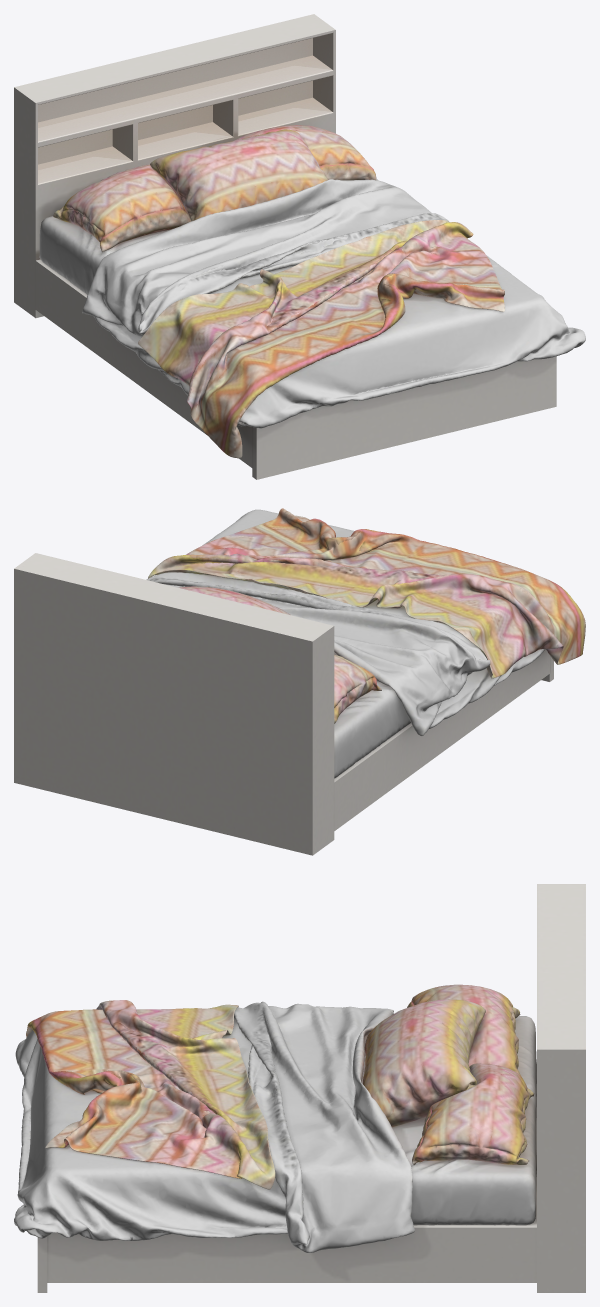
File: BED_7.glb
3 renders of one model, top to bottom at view 1: azimuth 30°, elevation 25°; view 2: azimuth 150°, elevation 25°; view 3: azimuth 270°, elevation 25°, orthographic. The views are drawn at different scales.
Visible parts, largest first — view 1: Object_10; view 2: Object_10; view 3: Object_10.
Boxes of the visible parts, x1,y1,x2,y2 form: Object_10: (14, 14, 585, 479); Object_10: (14, 508, 585, 855); Object_10: (14, 884, 585, 1292).
Size of the model in its own units: 1.44 by 0.7967 by 1.7.
Materials: 2 (2 with a texture image).
